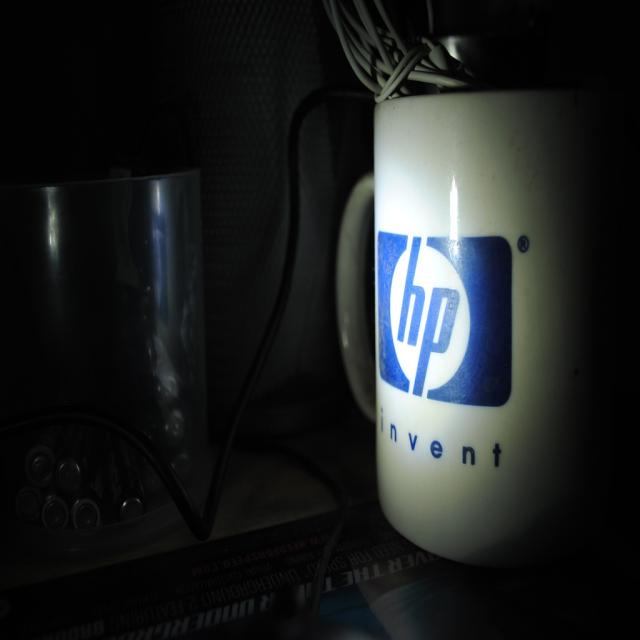HP: (377, 229, 516, 413)
